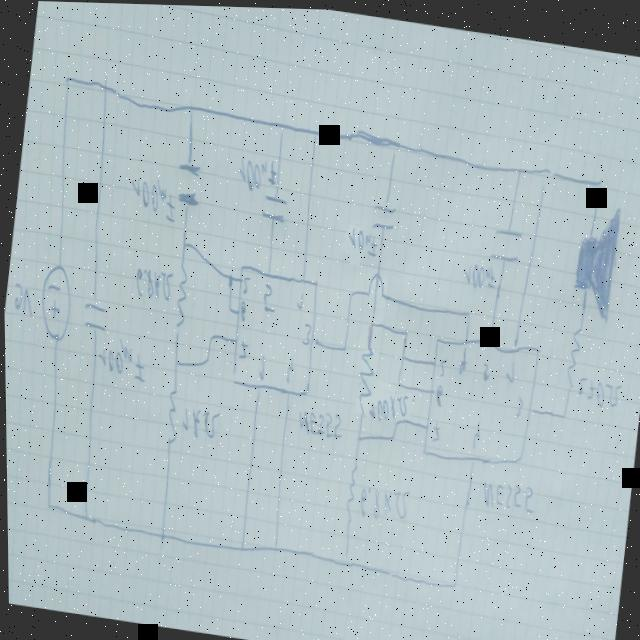capacitor: (485, 217, 523, 264), (172, 153, 204, 207), (77, 297, 108, 332), (258, 188, 289, 222), (368, 197, 397, 233)
crossover: (361, 264, 387, 301)
junction: (535, 156, 555, 195), (587, 167, 604, 205), (97, 66, 113, 101), (386, 125, 401, 162), (510, 152, 526, 184), (182, 88, 198, 119), (59, 67, 73, 94), (445, 566, 459, 591), (336, 545, 350, 568), (275, 113, 287, 139), (267, 532, 280, 555), (307, 122, 320, 145), (233, 533, 246, 555), (223, 265, 234, 289), (154, 522, 165, 543), (337, 334, 348, 354), (365, 310, 375, 332), (557, 401, 567, 423), (78, 506, 88, 527), (399, 320, 409, 341), (461, 302, 472, 320), (395, 344, 406, 362), (351, 426, 362, 444), (41, 495, 51, 514), (392, 370, 402, 389), (344, 283, 353, 302), (200, 350, 210, 367), (203, 330, 213, 347), (178, 235, 188, 252), (390, 411, 400, 427), (170, 353, 179, 370), (224, 296, 232, 314), (386, 425, 395, 441)
resistor: (350, 334, 376, 422), (167, 254, 190, 341), (159, 381, 181, 453), (339, 451, 359, 527), (561, 316, 582, 387)
source: (31, 257, 75, 343)
text: (124, 170, 178, 223), (92, 332, 147, 384), (354, 477, 409, 524), (476, 471, 535, 514), (363, 386, 412, 427), (573, 367, 622, 407), (176, 399, 219, 444), (234, 147, 277, 192), (130, 262, 173, 305), (293, 402, 343, 438), (7, 278, 37, 320), (343, 221, 379, 255), (459, 256, 496, 287), (259, 281, 276, 312), (282, 349, 294, 385), (235, 333, 249, 360), (468, 416, 480, 447), (455, 342, 467, 373), (434, 351, 446, 378), (298, 317, 309, 345), (502, 356, 513, 383), (431, 380, 442, 407), (428, 416, 439, 442), (511, 391, 521, 418), (255, 350, 264, 380), (293, 286, 304, 309), (479, 356, 489, 381), (236, 297, 246, 322), (240, 273, 249, 294)
